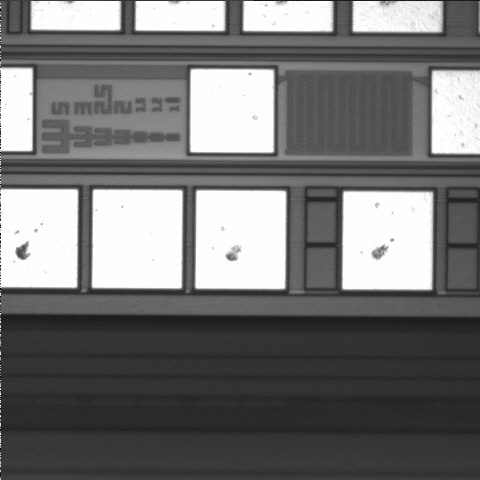pad: (342, 191, 433, 290), (196, 190, 286, 289), (92, 190, 182, 288), (190, 69, 274, 153)
